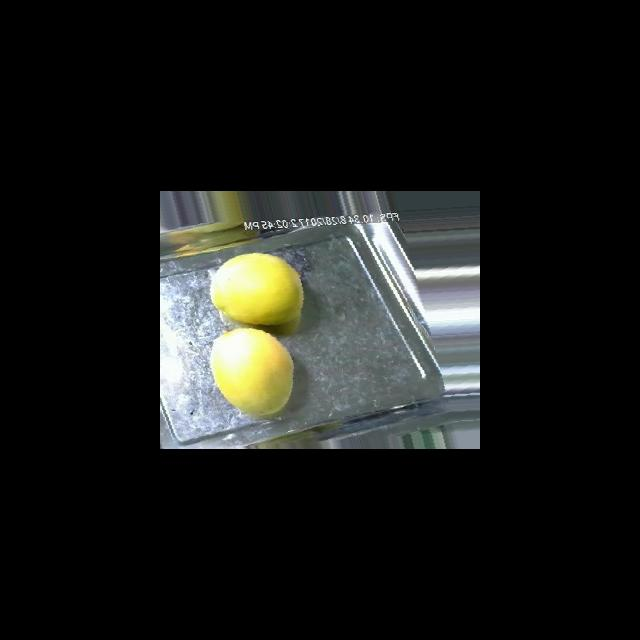mango: (209, 327, 294, 418), (209, 252, 303, 326)
